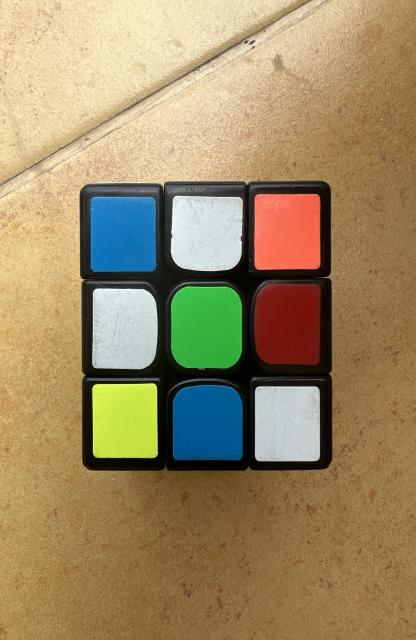Blue: (172, 385, 243, 460), (90, 196, 156, 271)
Green: (171, 286, 243, 369)
Orange: (255, 194, 321, 270)
Red: (255, 284, 321, 365)
White: (171, 195, 244, 271), (92, 289, 158, 369), (255, 386, 321, 461)
Yellow: (92, 384, 158, 459)
